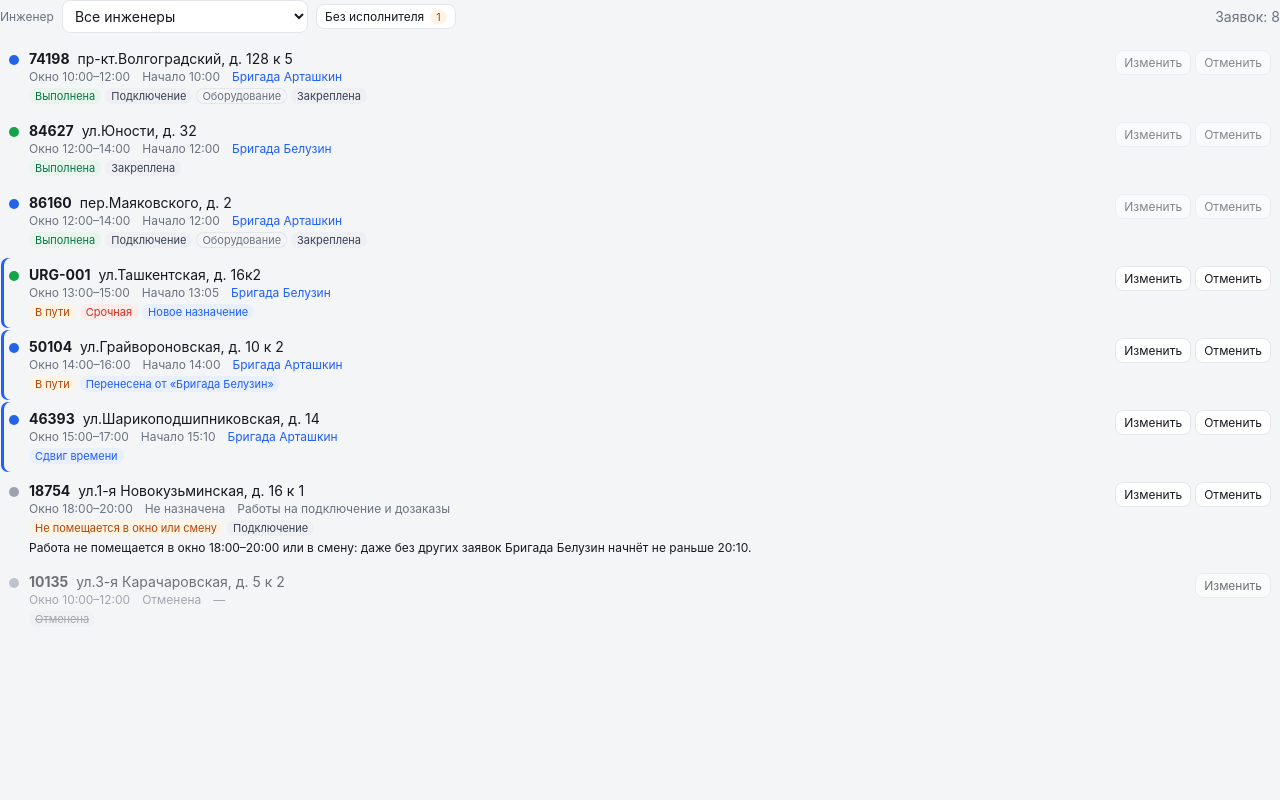
it: CancelToast › opens the choice when the server stops the time on the cancel sent after the countdown
Click the button "Отменить" in the row of "50104" at x=1233, y=350, box [1195,338,1271,363]
Wait 5000 ms
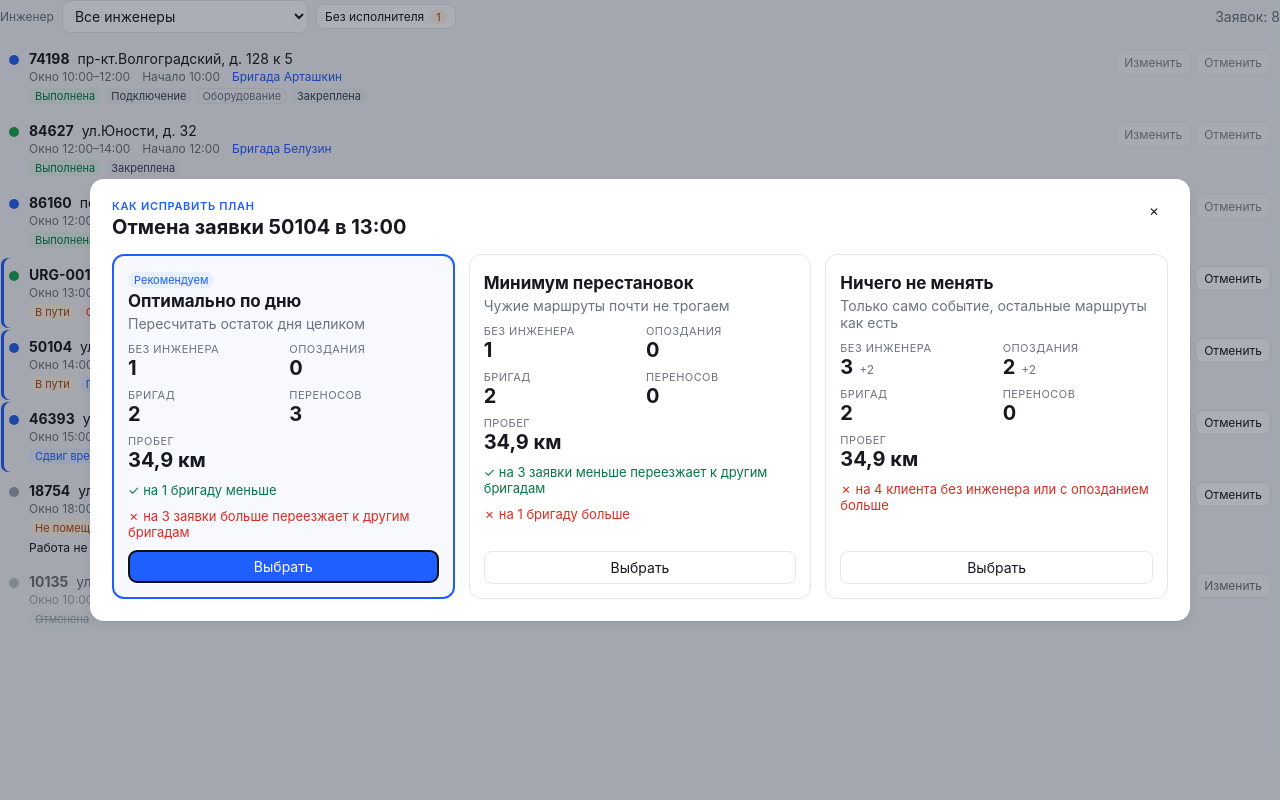
Expected: the dialog "Отмена заявки 50104 в 13:00" is shown, [90,179,1190,621]
Press Escape
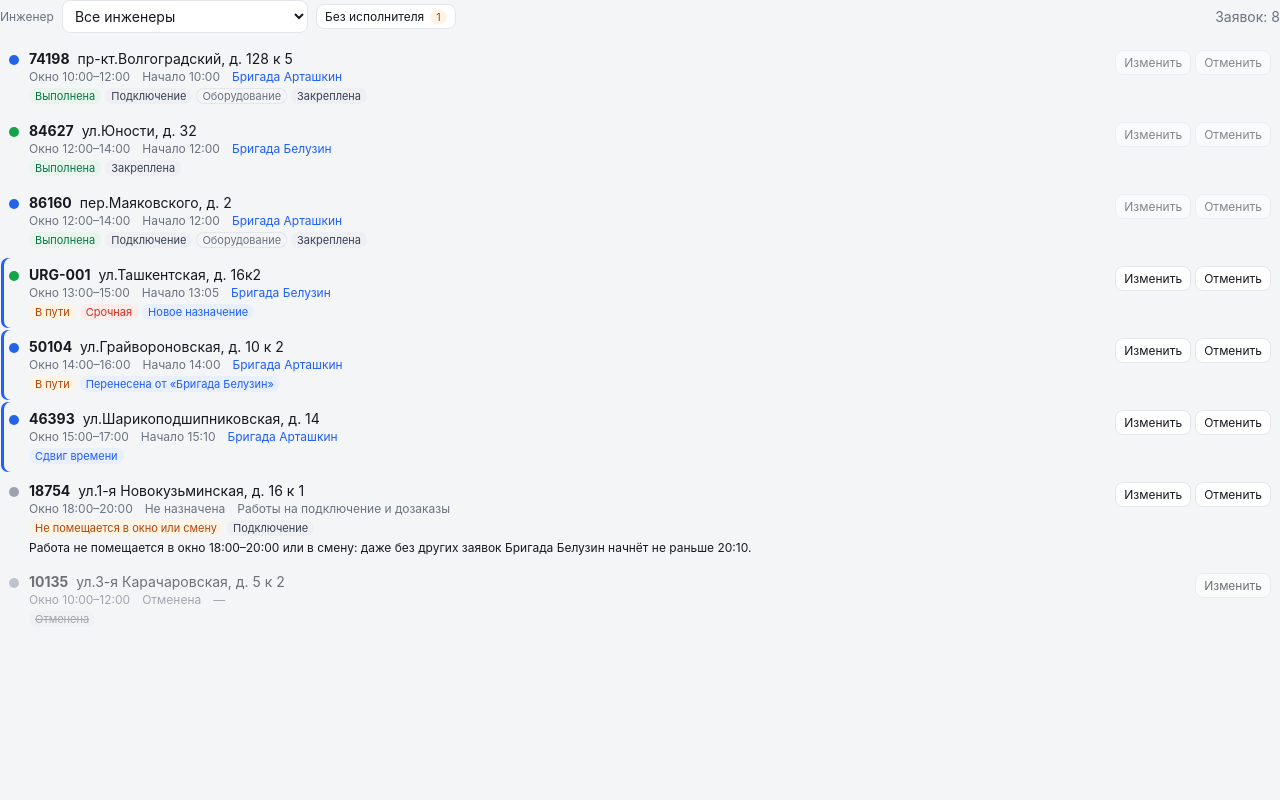
Expected: the dialog is gone
